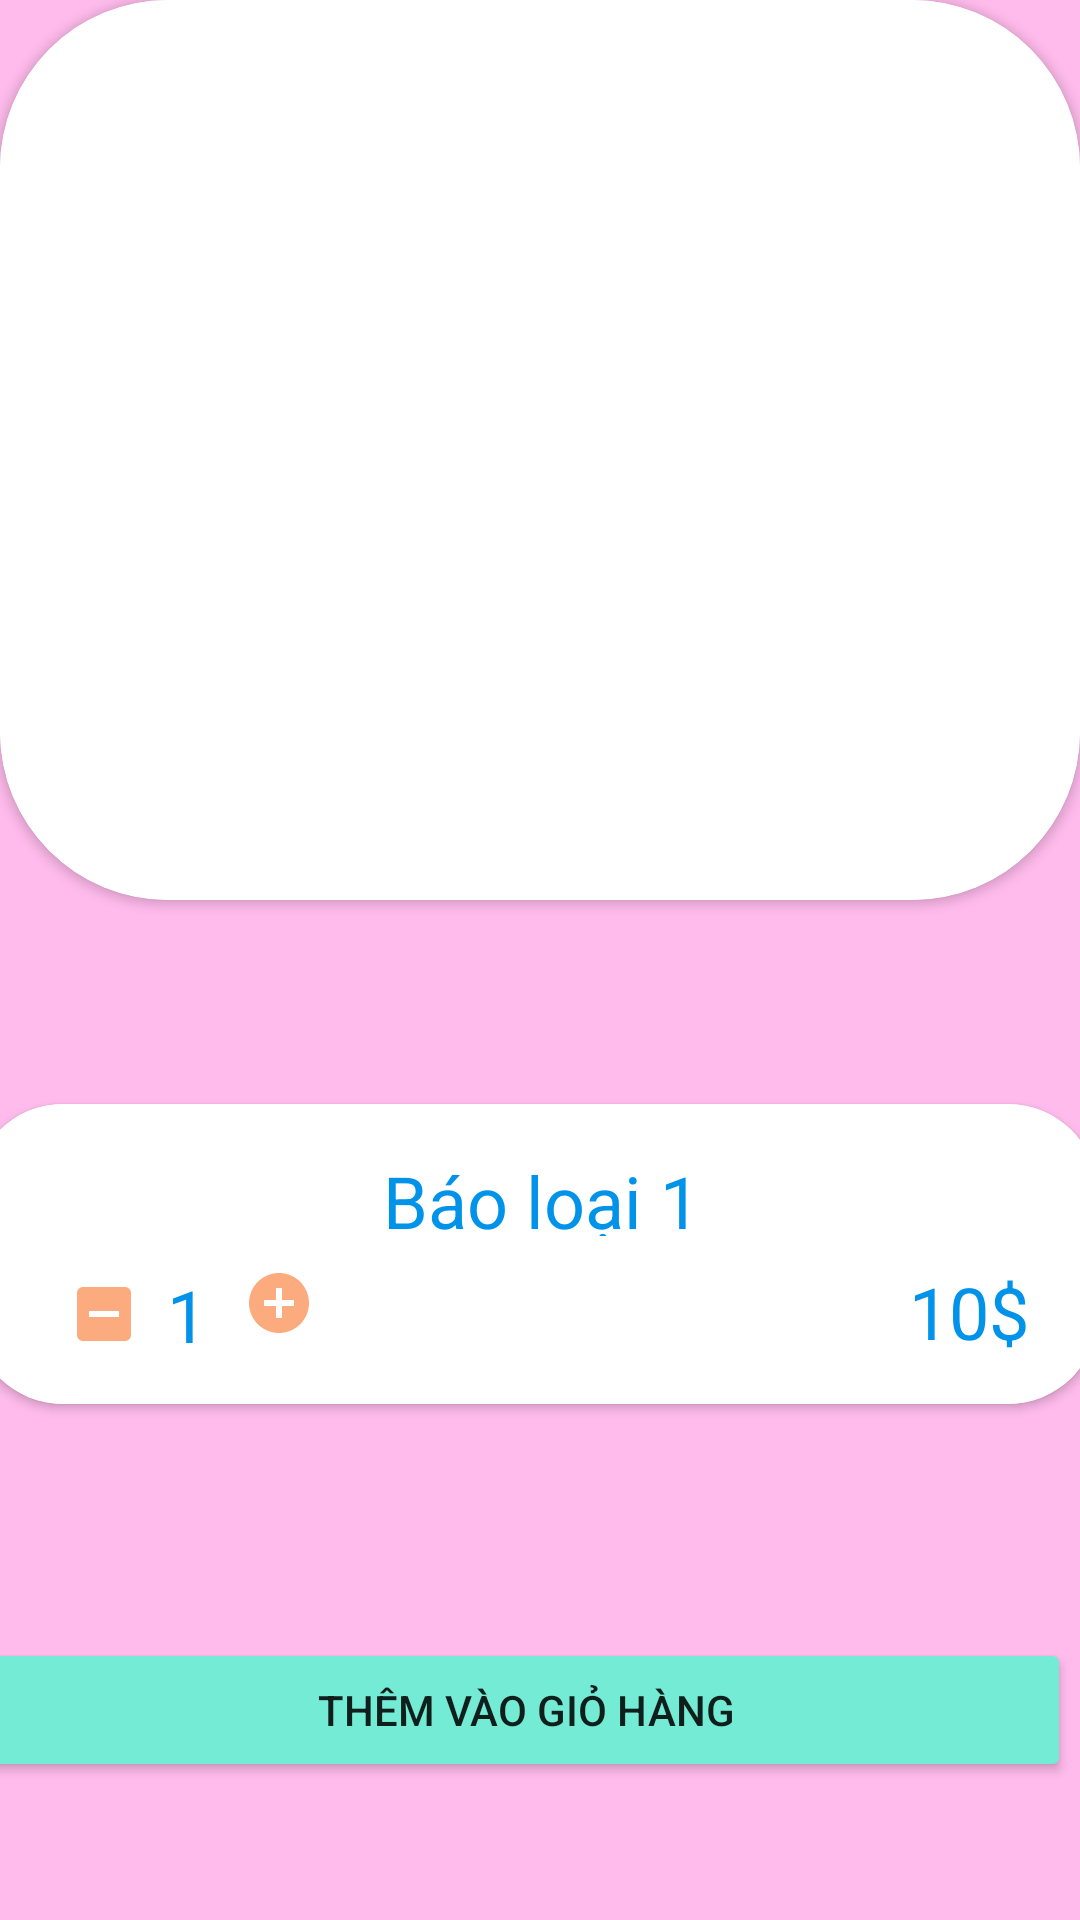

Locate icon controls on the screen. Image size 1080px×1920px, boxes as rect(x1, y1, x2, y2).
add circle: rect(249, 1273, 309, 1333)
indeterminate check box: rect(77, 1287, 131, 1341)
